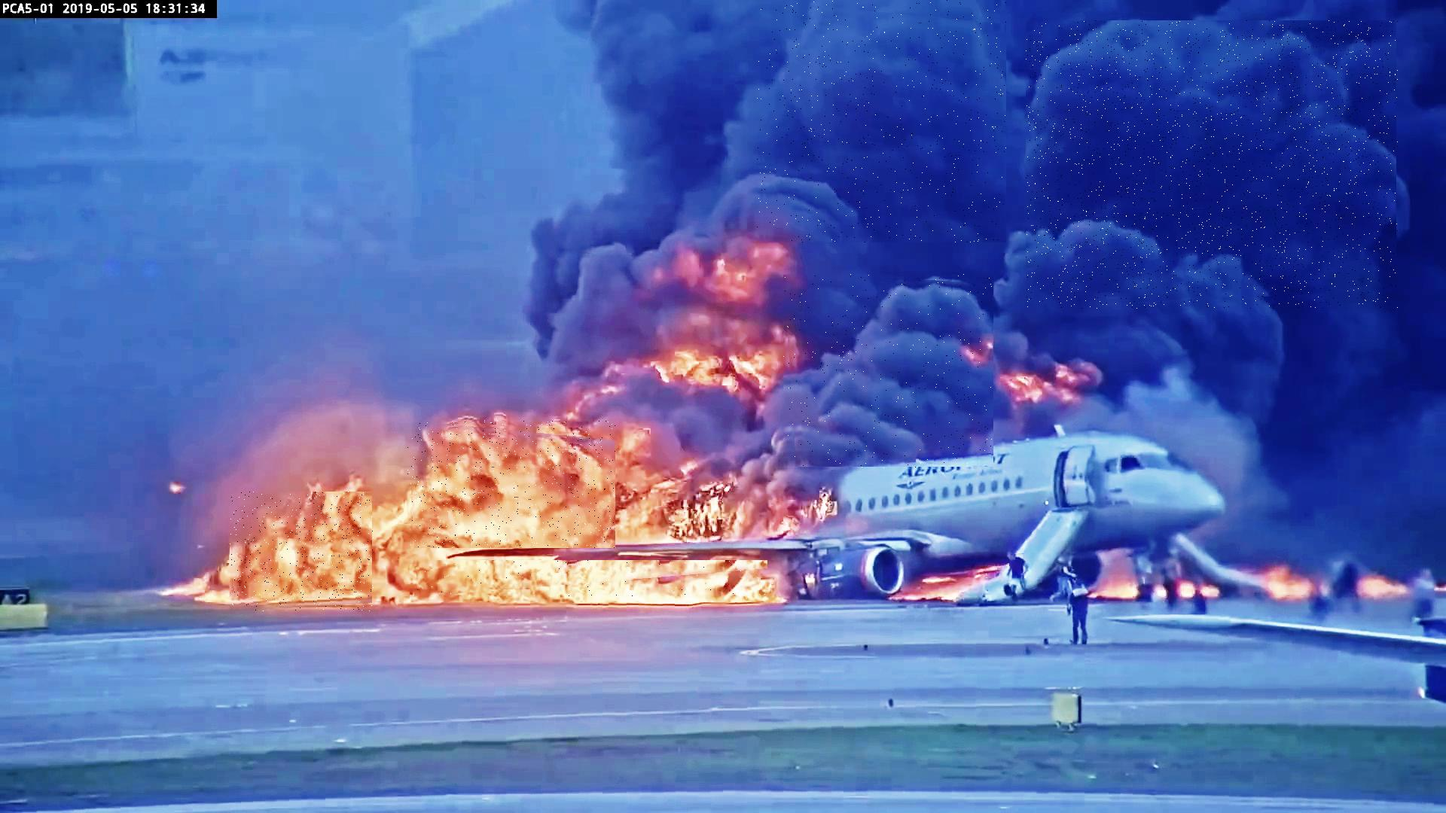fire: (407, 420, 615, 548), (230, 492, 374, 611), (414, 560, 768, 597)
smoke: (1026, 21, 1398, 309), (757, 0, 1006, 242), (783, 275, 993, 469)
